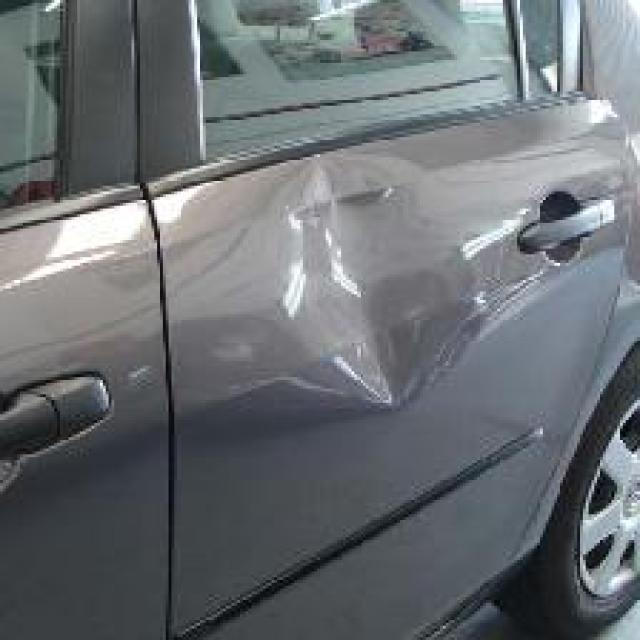door_dent_moderate: (277, 157, 483, 403)
